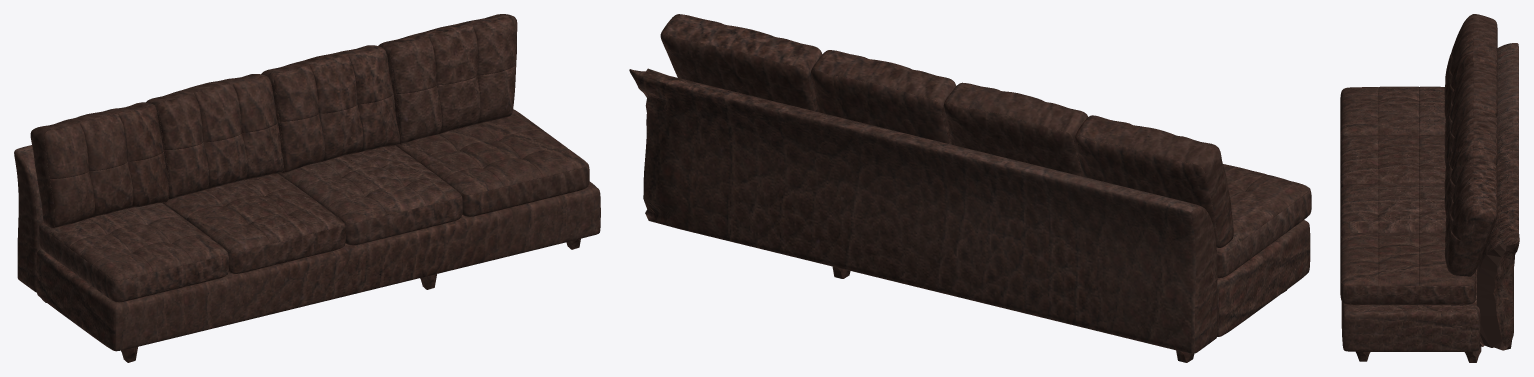
Rendered from sillon sala de espera.fbx.
3 views of the same model, side by side, from view 1: azimuth 30°, elevation 25°; view 2: azimuth 150°, elevation 25°; view 3: azimuth 270°, elevation 25° (orthographic). The views are drawn at different scales.
Visible parts, largest first — view 1: Mallory_Tufted_Upholstered_Sectional; view 2: Mallory_Tufted_Upholstered_Sectional; view 3: Mallory_Tufted_Upholstered_Sectional.
Boxes of the visible parts, left/top/right/bottom form: Mallory_Tufted_Upholstered_Sectional: left=14, top=14, right=600, bottom=362; Mallory_Tufted_Upholstered_Sectional: left=629, top=14, right=1311, bottom=362; Mallory_Tufted_Upholstered_Sectional: left=1340, top=14, right=1519, bottom=362.
Bounding box in the file's own units: 9593 × 3423 × 3549.
1 material, 1 textured.
